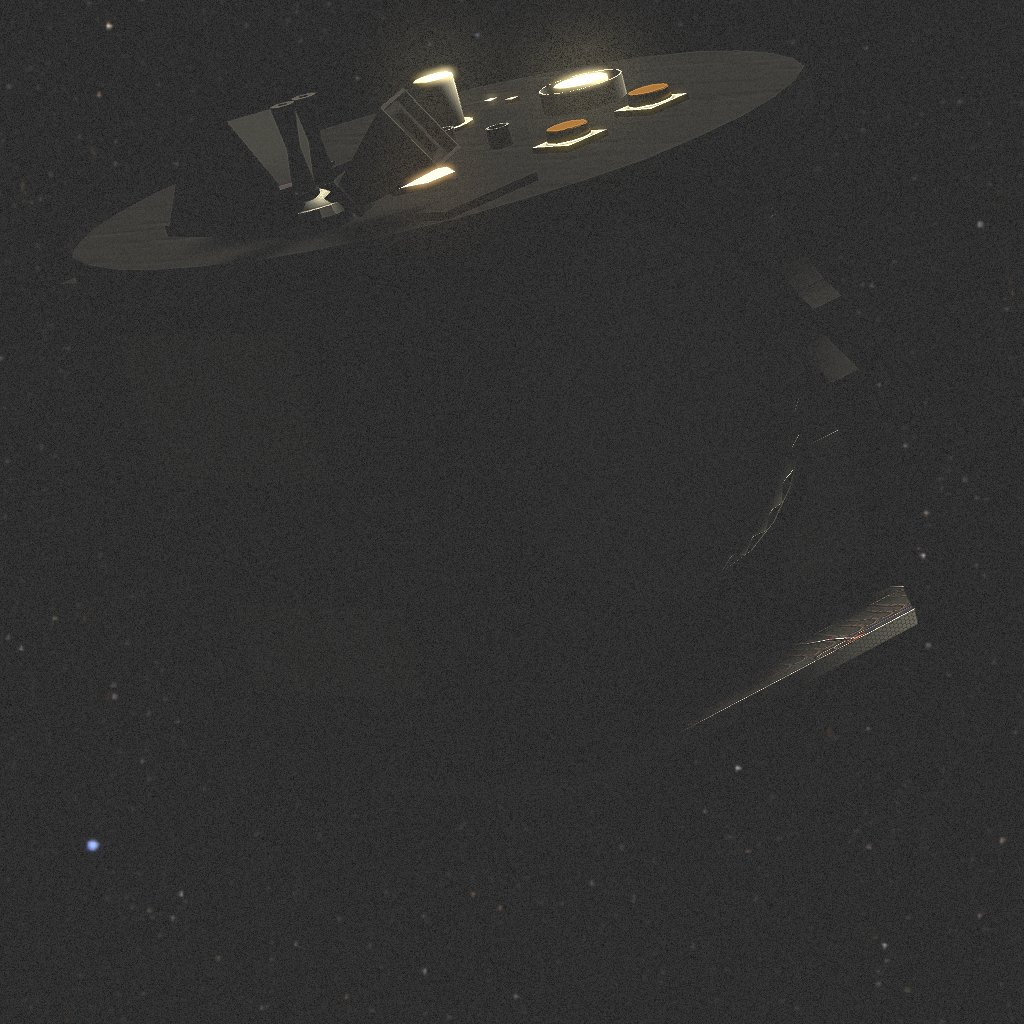proba_3_ocs: (38, 50, 937, 830)
